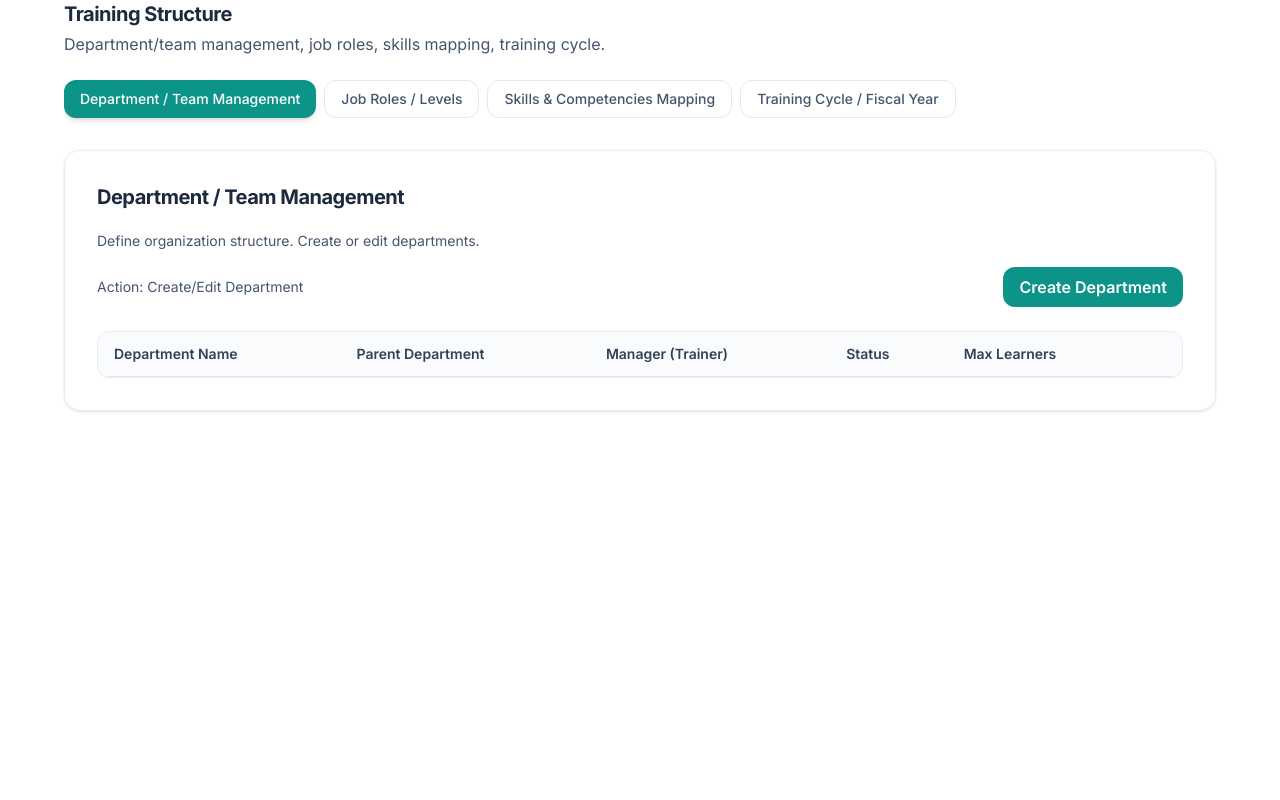
Test: AcademicSetup – Job Roles CRUD › opens Edit modal when pencil button is clicked on a job role row
Click the button "Job Roles / Levels".
click(402, 99)  # box x1=324 y1=80 x2=479 y2=118
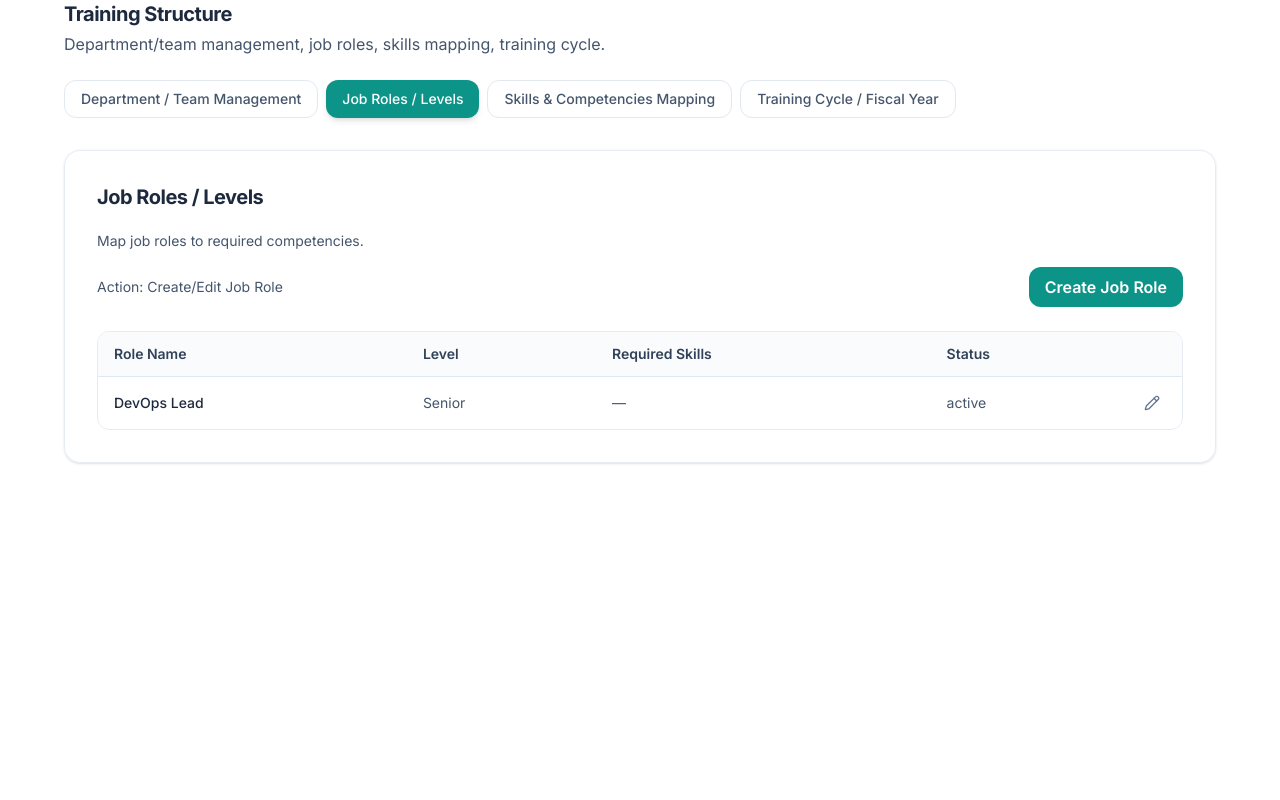
Click the button named "Edit".
click(1152, 403)  # box x1=1138 y1=389 x2=1166 y2=417
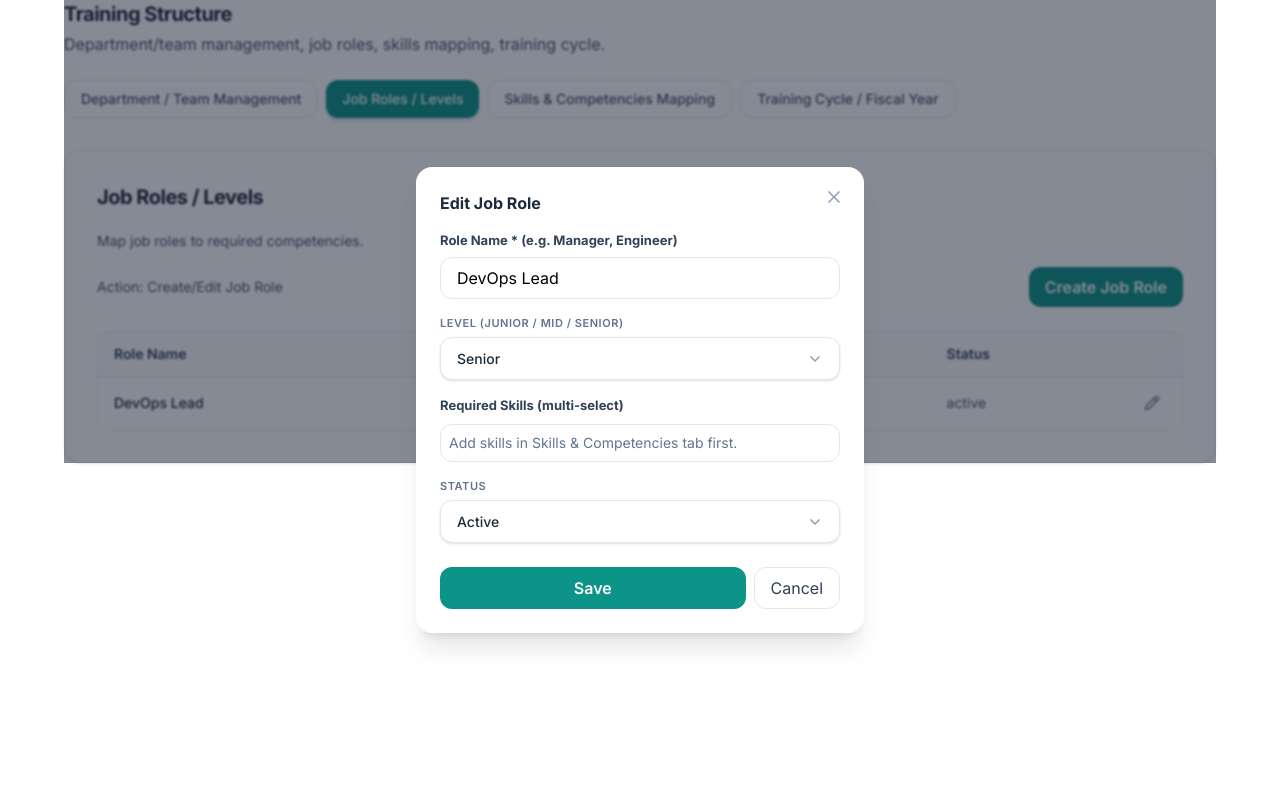
Expected: the heading "Edit Job Role" is shown, x1=440 y1=193 x2=541 y2=213
